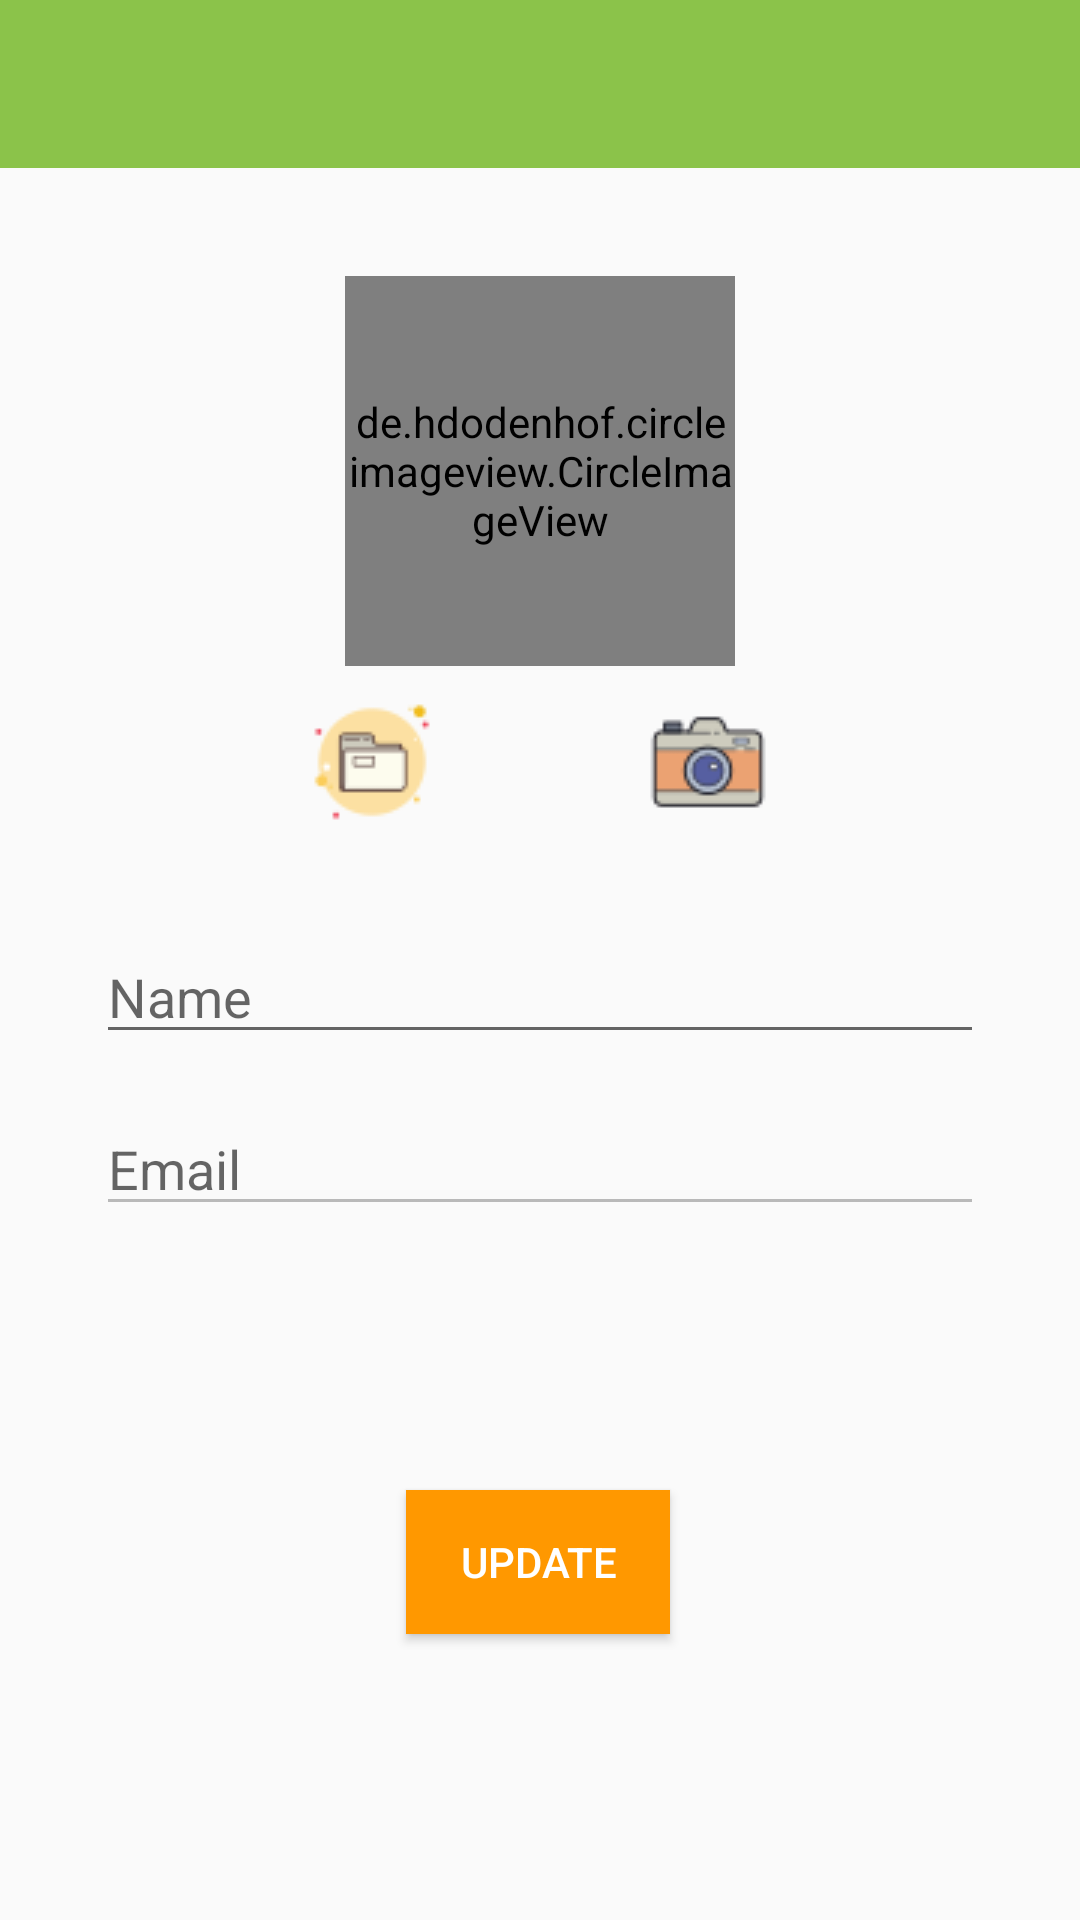

Screen size 1080px x 1920px. Icon name, then its center in pixels as (x,y):
camera: (708,762)
folder: (372,762)
